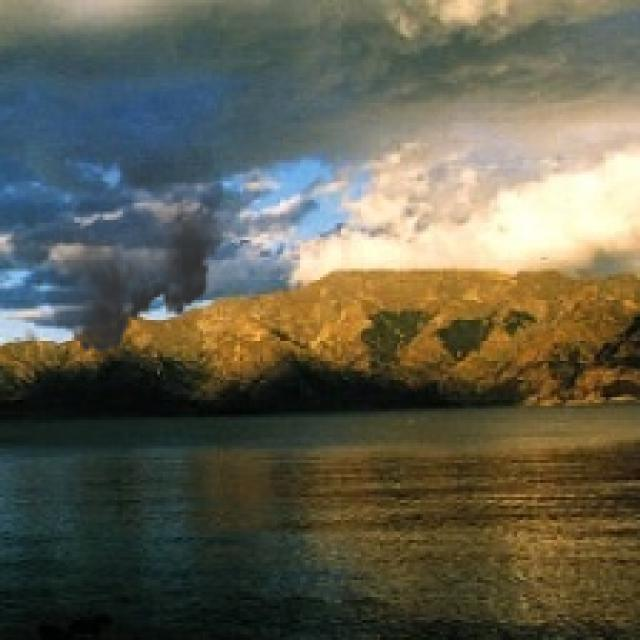smoke: (3, 131, 228, 363)
